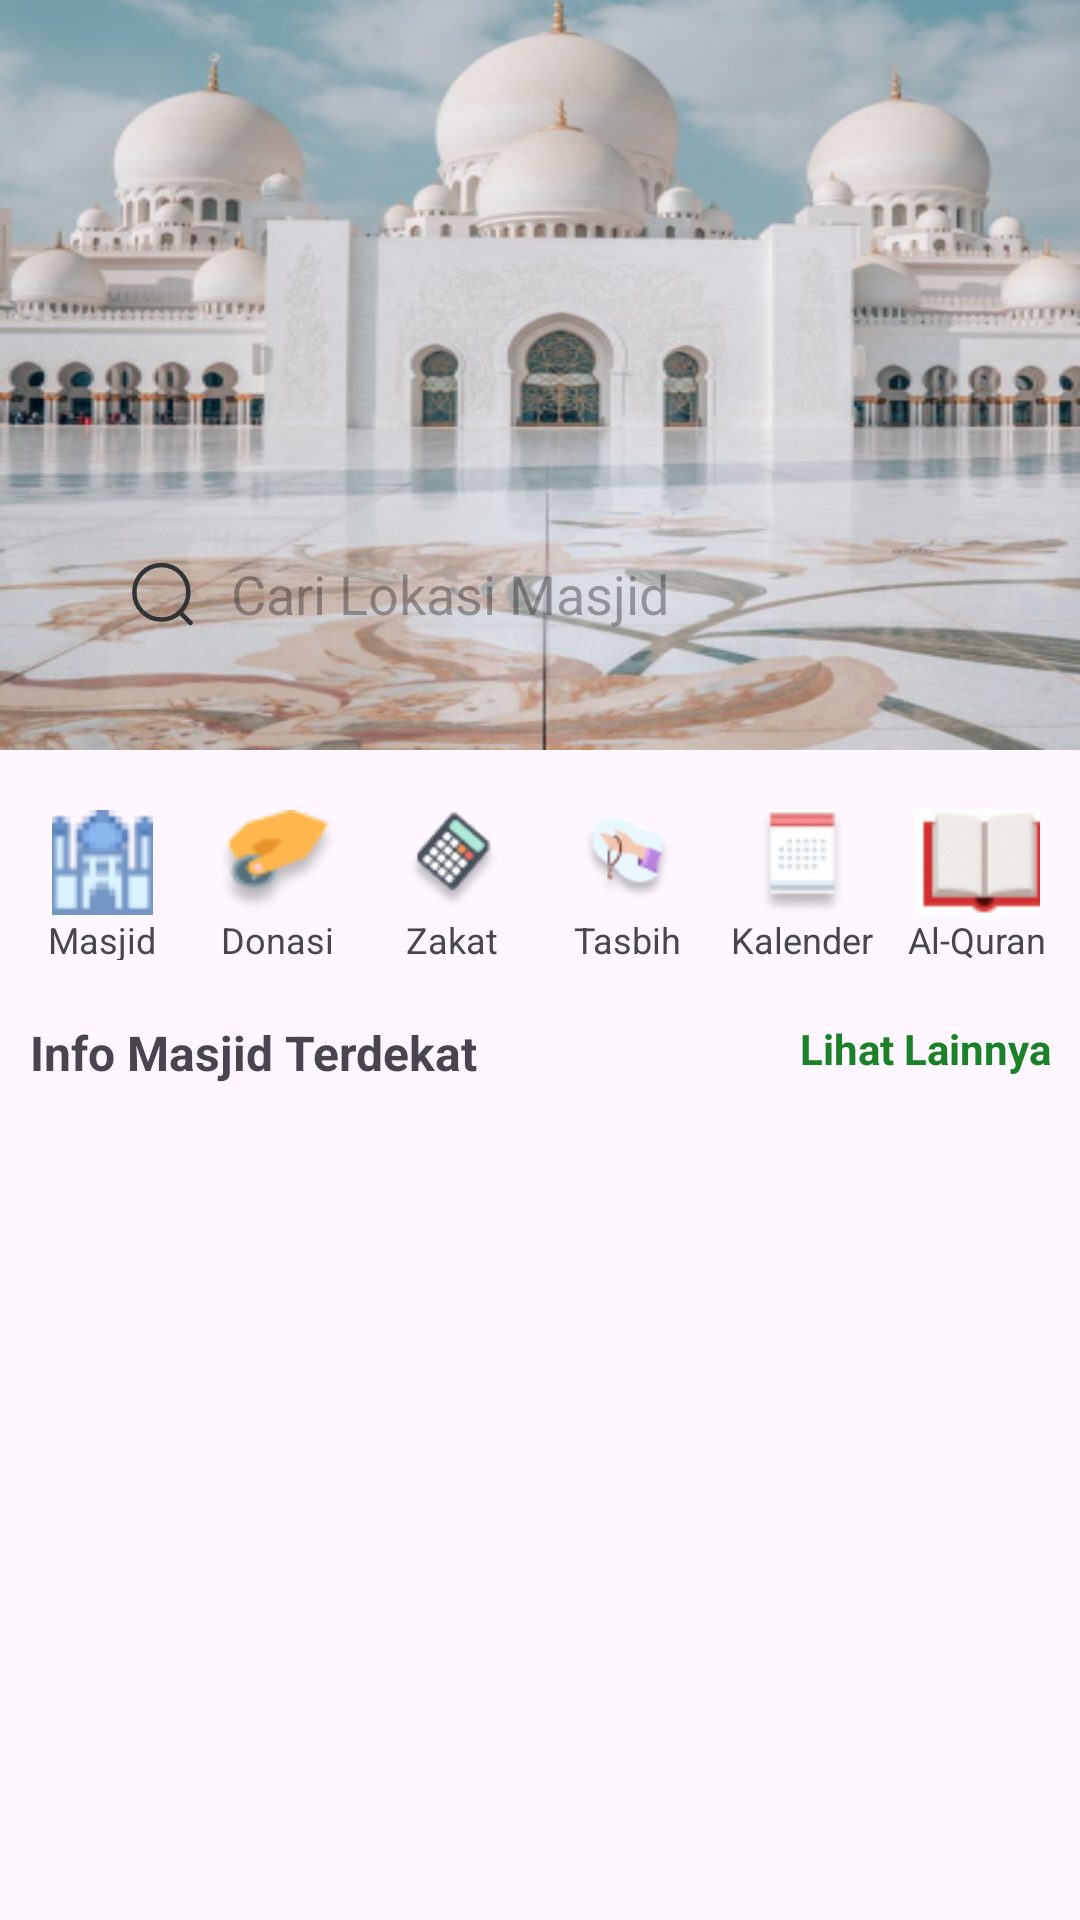

Point at icon controls on the screen. Image size 1080*1920, points as (x,y).
kalkulator: (453,855)
